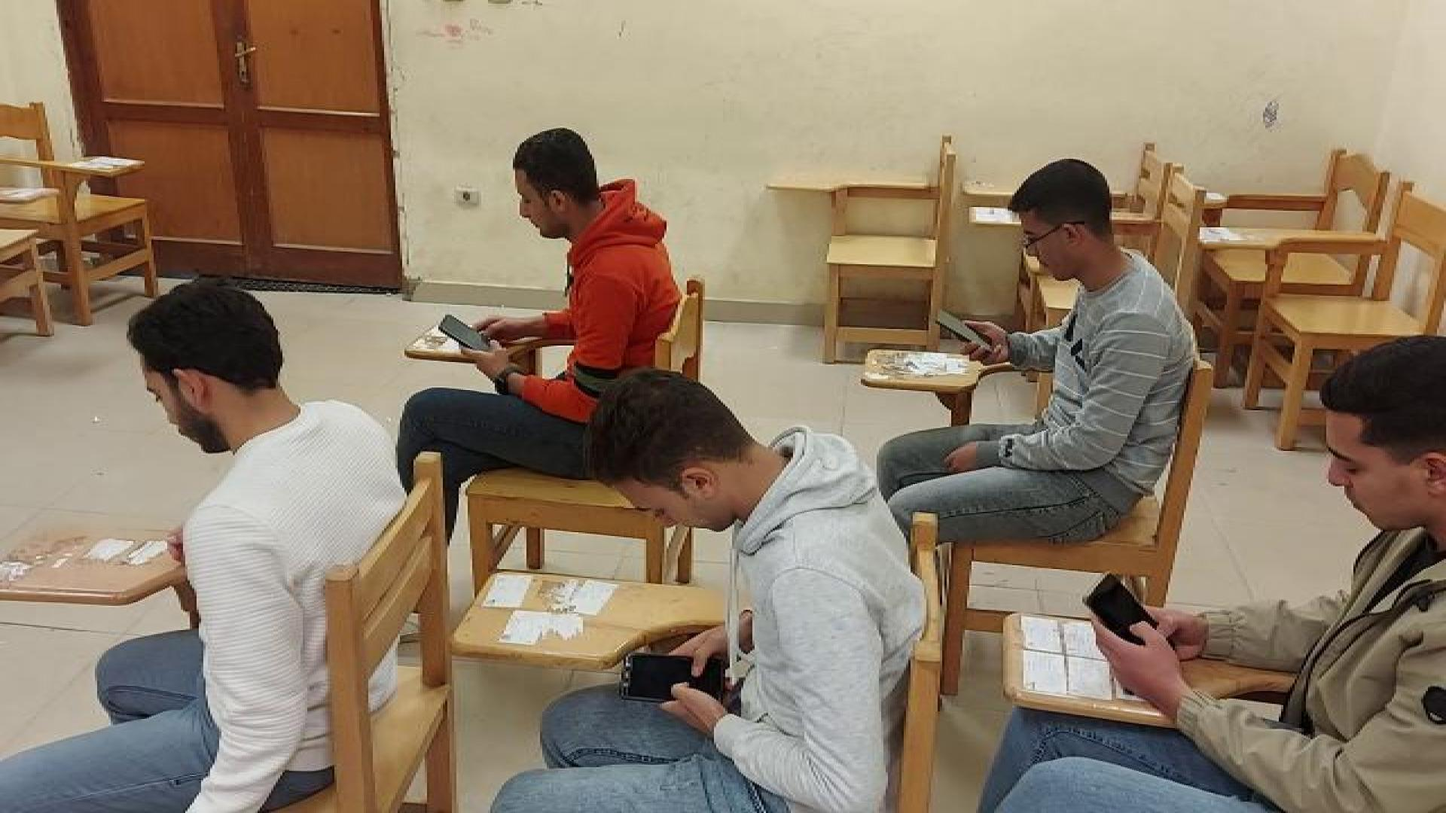phone: (1078, 572, 1177, 653), (618, 647, 729, 705), (932, 302, 1000, 353), (435, 314, 500, 355)
